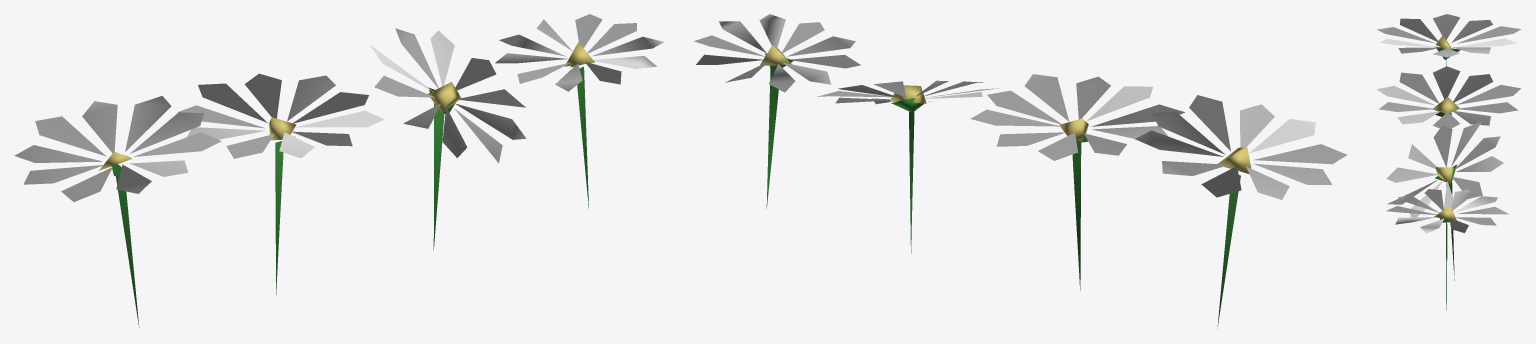
Rendered from LowPolyFlowers.obj.
3 views of the same model, side by side, from view 1: azimuth 30°, elevation 25°; view 2: azimuth 150°, elevation 25°; view 3: azimuth 270°, elevation 25° (orthographic). The views are drawn at different scales.
Visible parts, largest first — view 1: flowers_3d_OBJ; view 2: flowers_3d_OBJ; view 3: flowers_3d_OBJ.
Part boxes in pixels (x1=…): flowers_3d_OBJ: x1=14, y1=14, x2=664, y2=327; flowers_3d_OBJ: x1=694, y1=14, x2=1347, y2=328; flowers_3d_OBJ: x1=1377, y1=14, x2=1521, y2=309.
Size of the model in its own units: 79.33 by 24.78 by 22.18.
